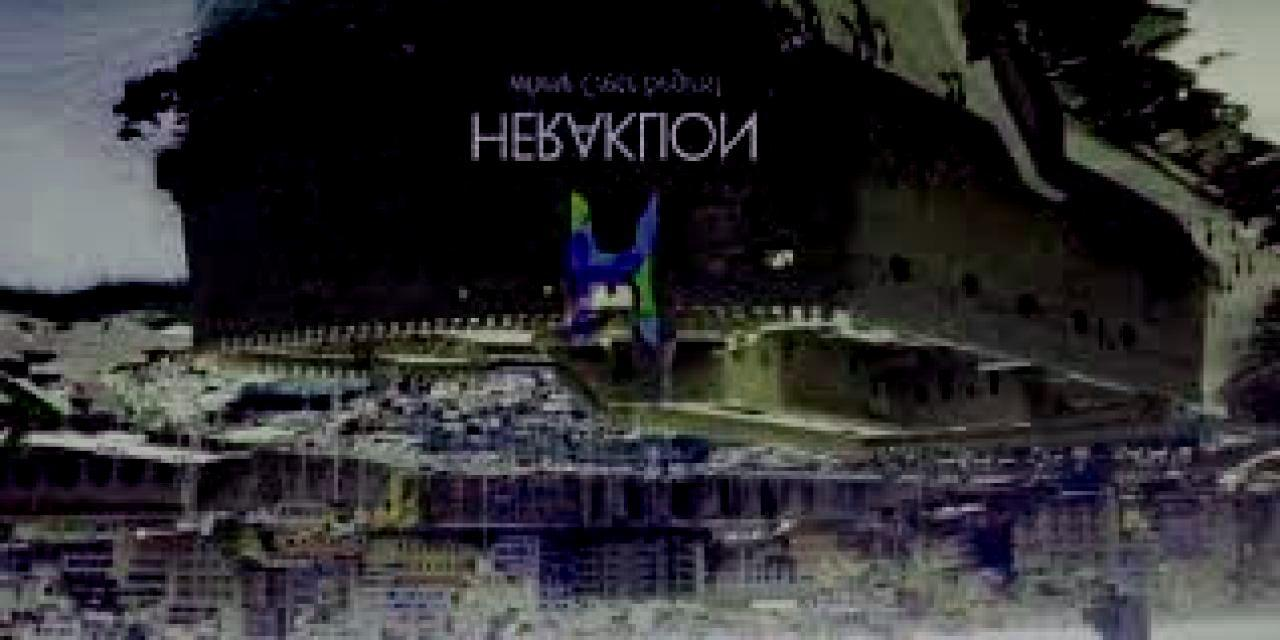Kules: (183, 85, 1213, 453)
